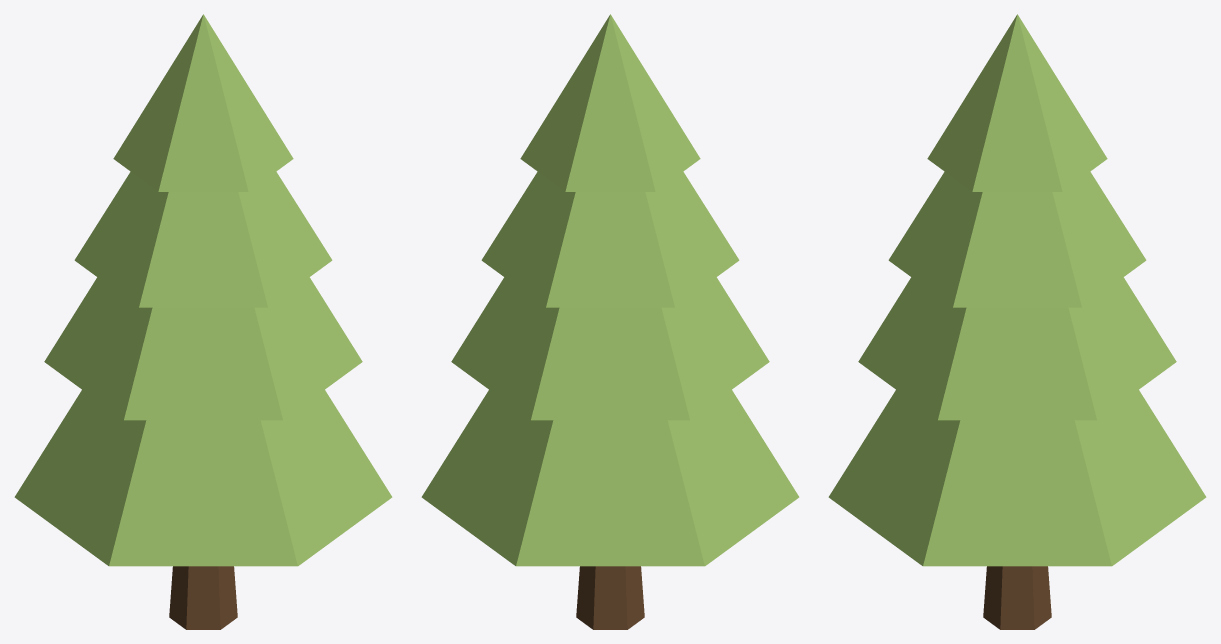
File: Tree_AutumnLight.fbx
The picture shows the model from 3 angles, left to right: view 1: azimuth 30°, elevation 25°; view 2: azimuth 150°, elevation 25°; view 3: azimuth 270°, elevation 25°; orthographic projection.
Parts seen in each view (by area): view 1: Tree_AutumnLight; view 2: Tree_AutumnLight; view 3: Tree_AutumnLight.
Part boxes in pixels (<box>): Tree_AutumnLight: <box>14,14,392,629</box>; Tree_AutumnLight: <box>421,14,799,629</box>; Tree_AutumnLight: <box>828,14,1206,629</box>.
Size of the model in its own units: 175 by 357 by 203.
